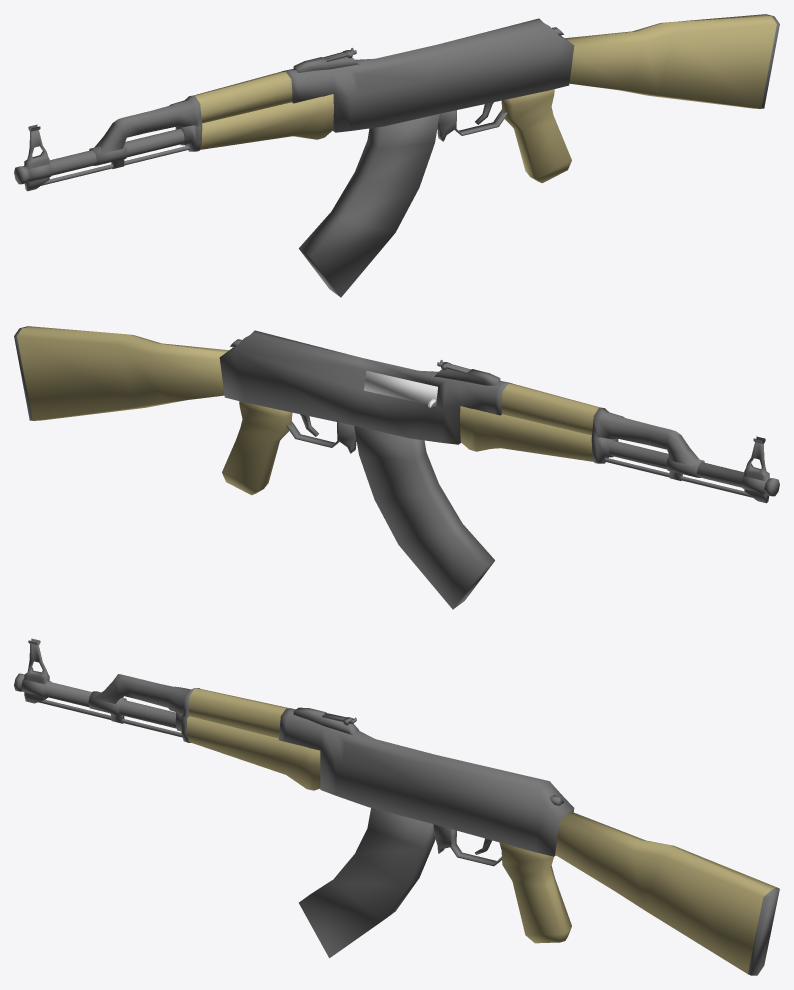
The picture shows the model from 3 angles, top to bottom: view 1: azimuth 30°, elevation 25°; view 2: azimuth 150°, elevation 25°; view 3: azimuth 330°, elevation 25°; orthographic projection.
Visible parts, largest first — view 1: Cube; view 2: Cube; view 3: Cube.
Boxes of the visible parts, x1,y1,x2,y2 form: Cube: [14, 14, 779, 297]; Cube: [14, 326, 779, 609]; Cube: [14, 638, 779, 975].
Size of the model in its own units: 940 by 286 by 44.18.
